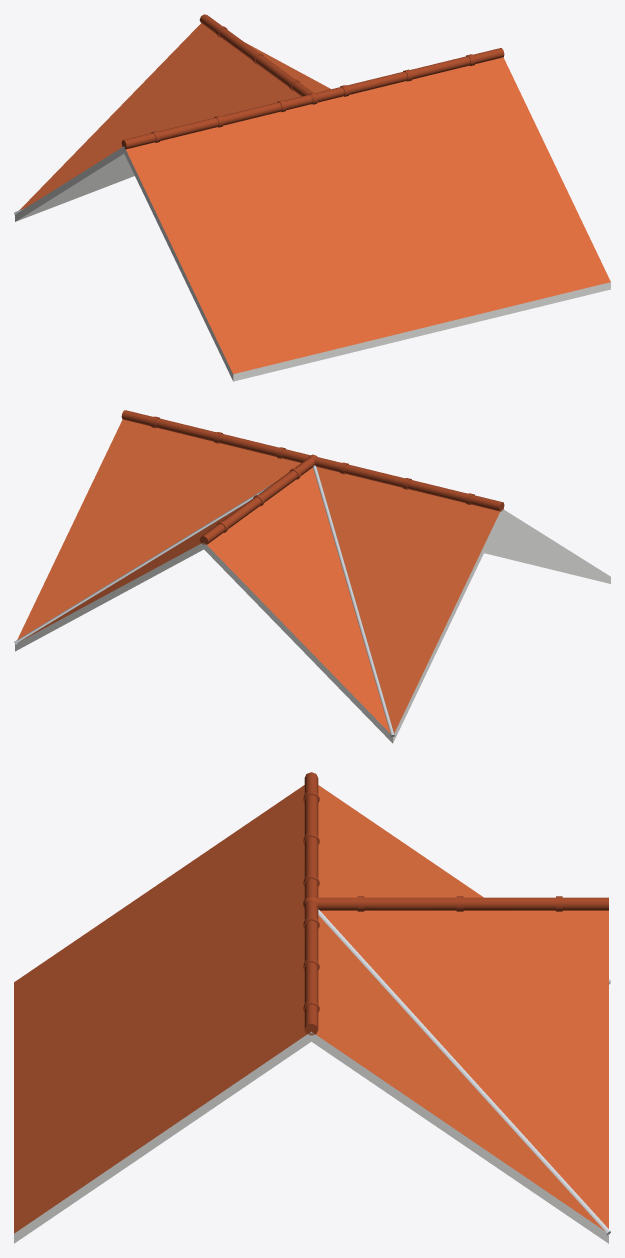
Rendered from telhado_encontro_t_v6_i75.glb.
The picture shows the model from 3 angles, top to bottom: view 1: azimuth 30°, elevation 25°; view 2: azimuth 150°, elevation 25°; view 3: azimuth 270°, elevation 25°; orthographic projection. The views are drawn at different scales.
Parts seen in each view (by area): view 1: telhado_encontro_t_v6_i75; view 2: telhado_encontro_t_v6_i75; view 3: telhado_encontro_t_v6_i75.
Part boxes in pixels (x1,y1,x2,y2): telhado_encontro_t_v6_i75: (14,14,610,381); telhado_encontro_t_v6_i75: (14,410,610,743); telhado_encontro_t_v6_i75: (14,772,610,1243).
Size of the model in its own units: 6.04 by 2.47 by 6.02.
4 materials, 1 textured.
